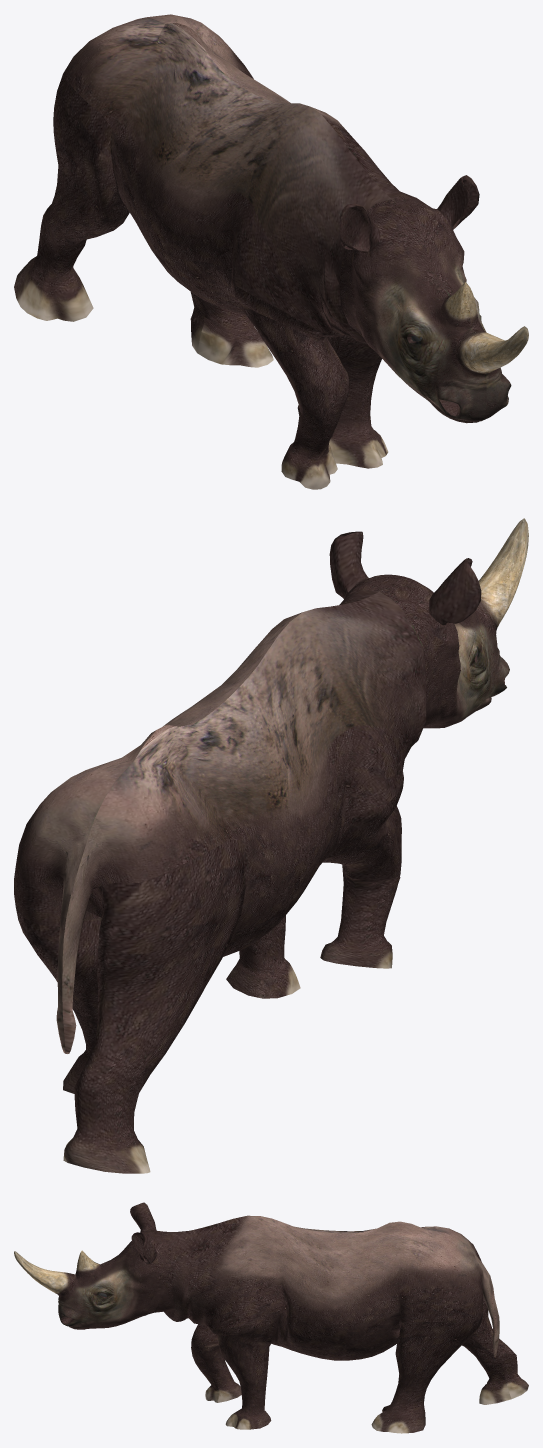
3 views of the same model, one above another, from view 1: azimuth 30°, elevation 25°; view 2: azimuth 150°, elevation 25°; view 3: azimuth 270°, elevation 25° (orthographic). The views are drawn at different scales.
Parts seen in each view (by area): view 1: 3DSMeshMatrix; view 2: 3DSMeshMatrix; view 3: 3DSMeshMatrix.
Part boxes in pixels (x1,y1,x2,y2): 3DSMeshMatrix: (14, 14, 528, 489); 3DSMeshMatrix: (14, 518, 528, 1173); 3DSMeshMatrix: (14, 1202, 528, 1433).
Size of the model in its own units: 3.48 by 6.79 by 15.98.
Materials: 2 (1 with a texture image).
